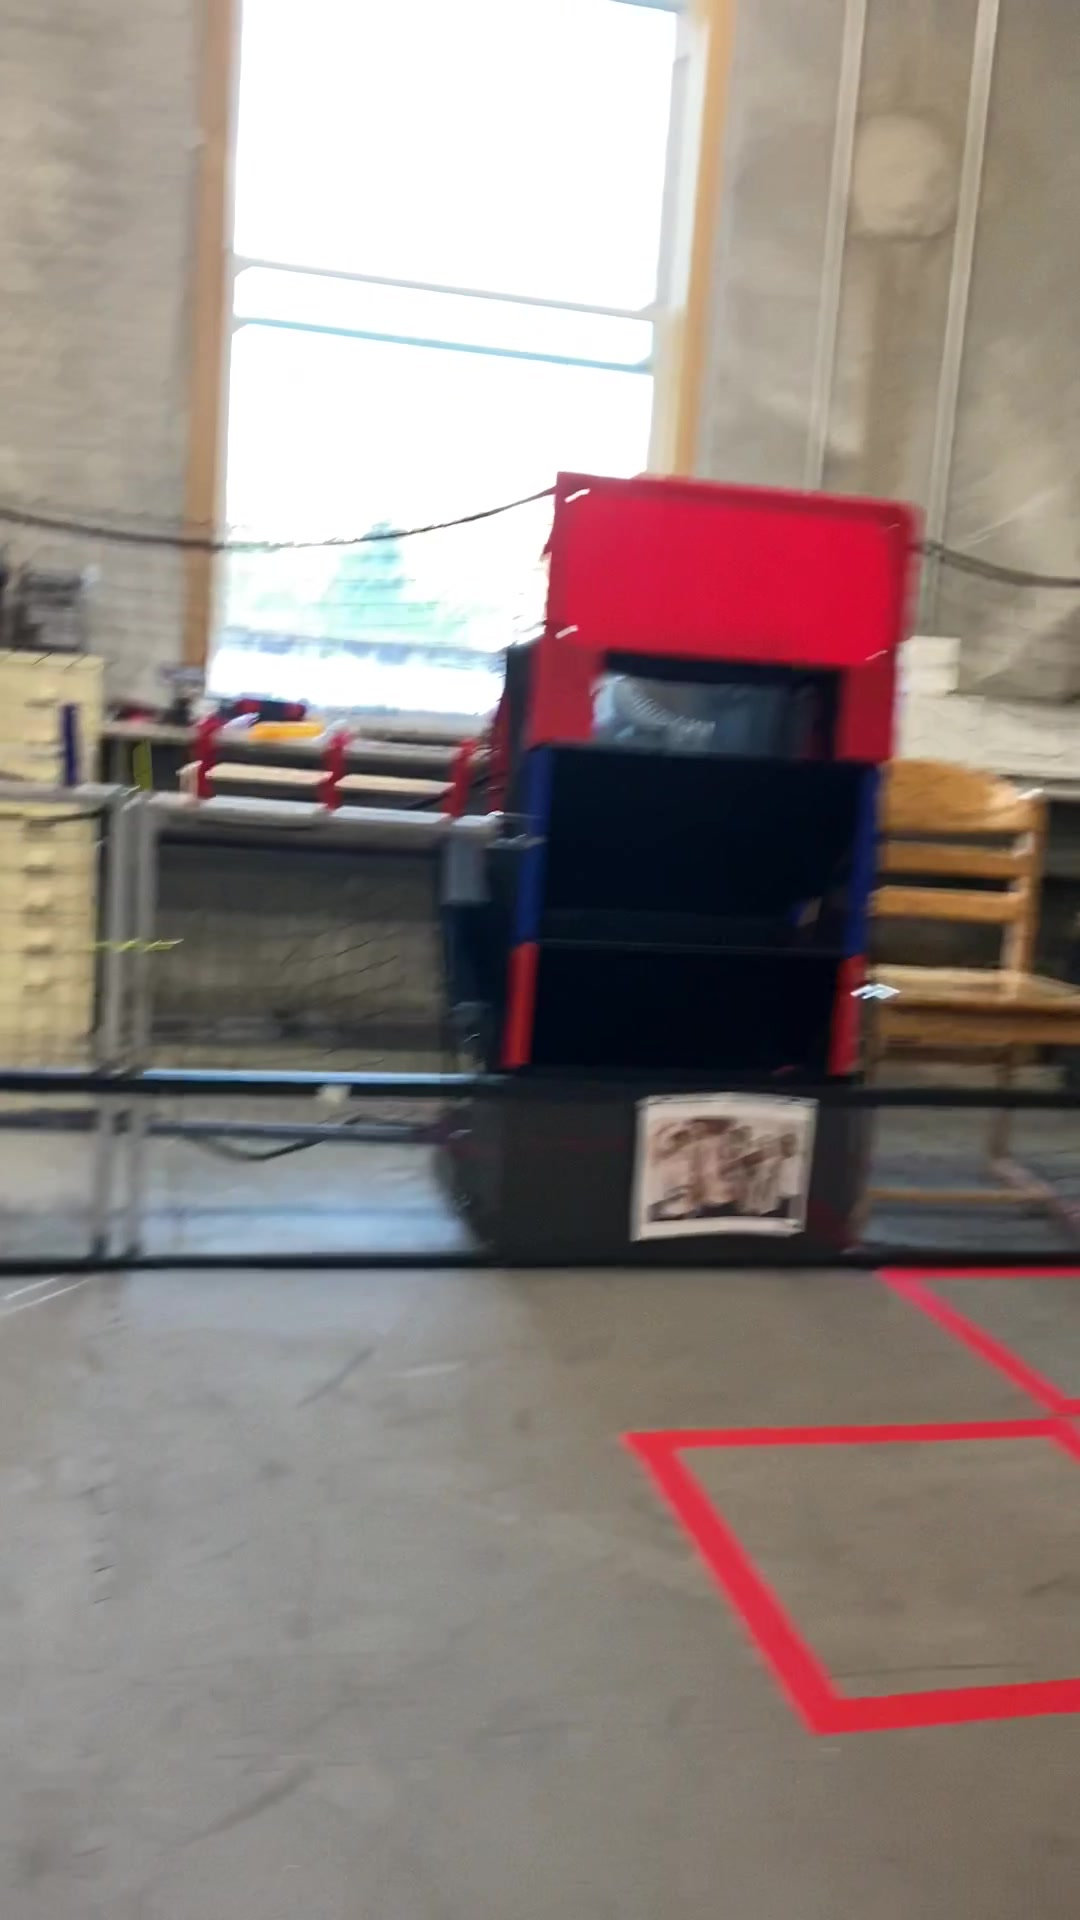high_goal: (597, 650, 835, 758)
